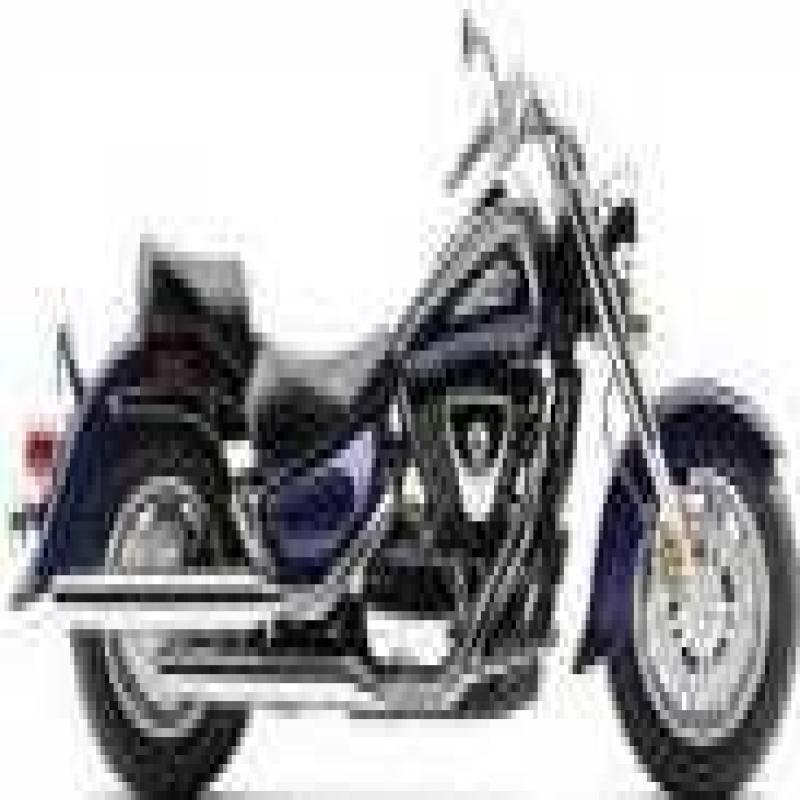bike: (2, 10, 800, 800)
